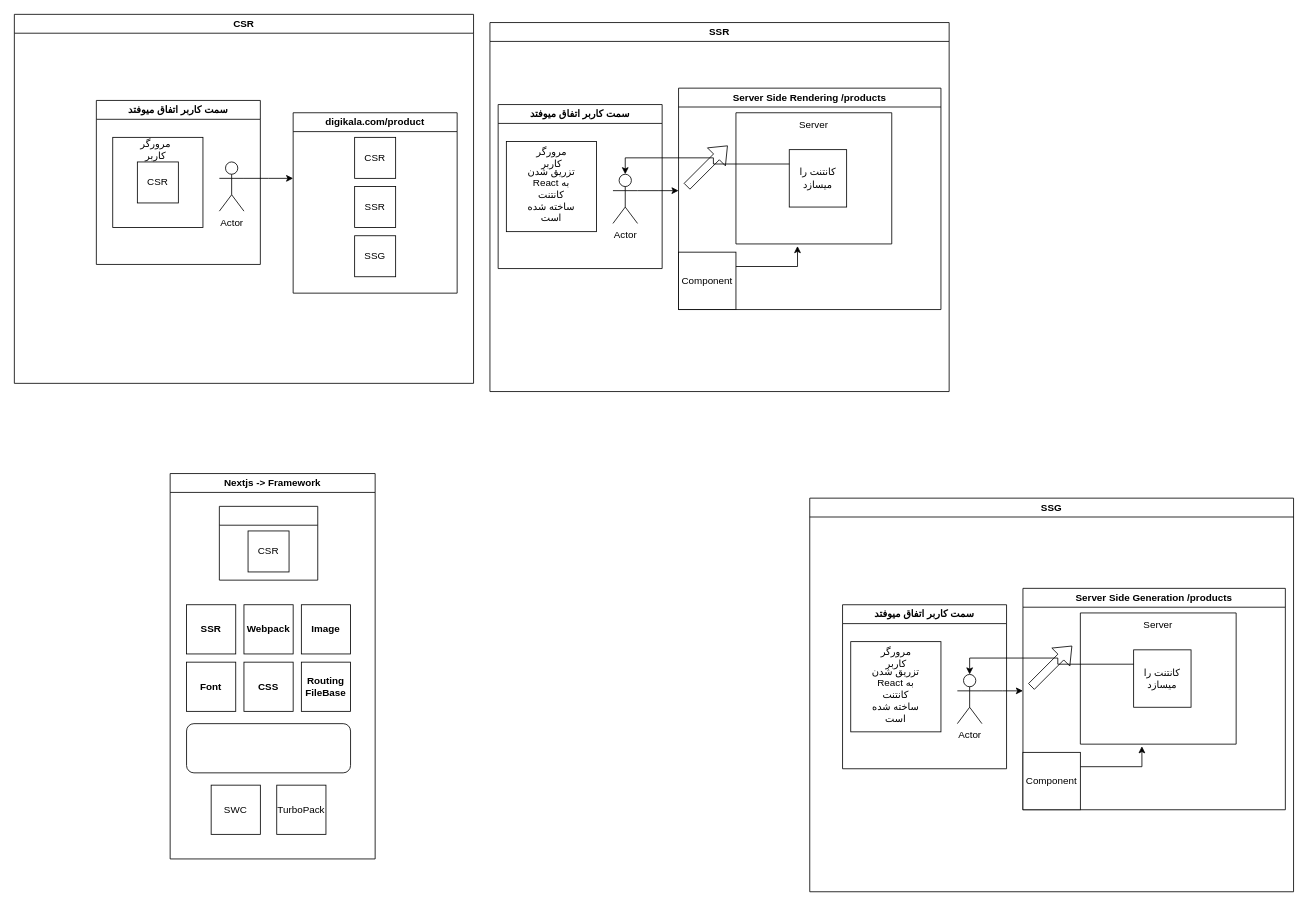
The diagram is 1308 pixels wide and 906 high, and some of its shapes have lost their labels. Here are the shapes that lost their labels. From the top down, the box of each, then its label:
(219, 506, 318, 580): ReactJS -> library
(186, 723, 351, 773): React Base
